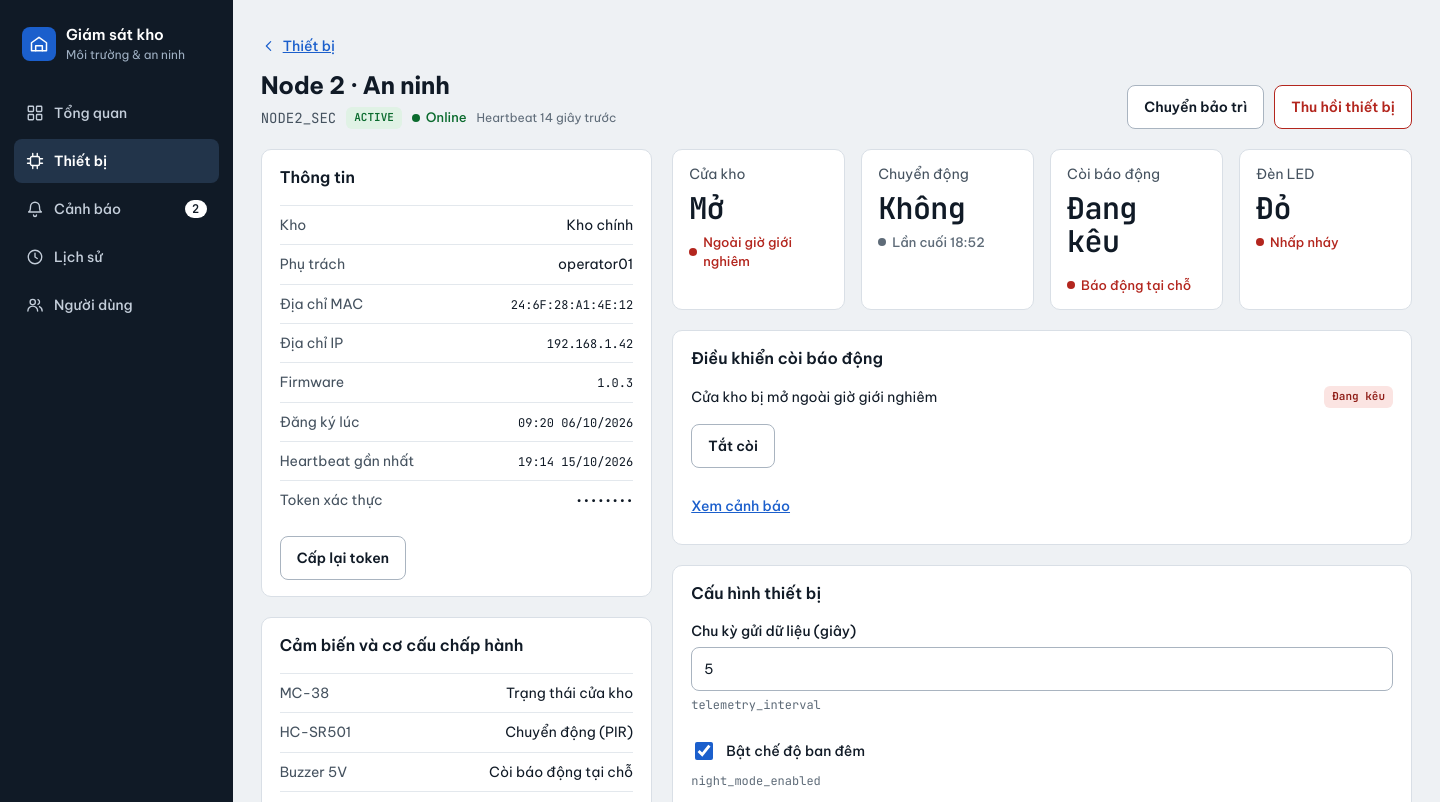
Test: AC-3 and AC-6: login and honest prototype interactions › does not claim to send a hardware command from this milestone
Click the button "Tắt còi" at {"x": 733, "y": 446}, box [691,424,775,468]
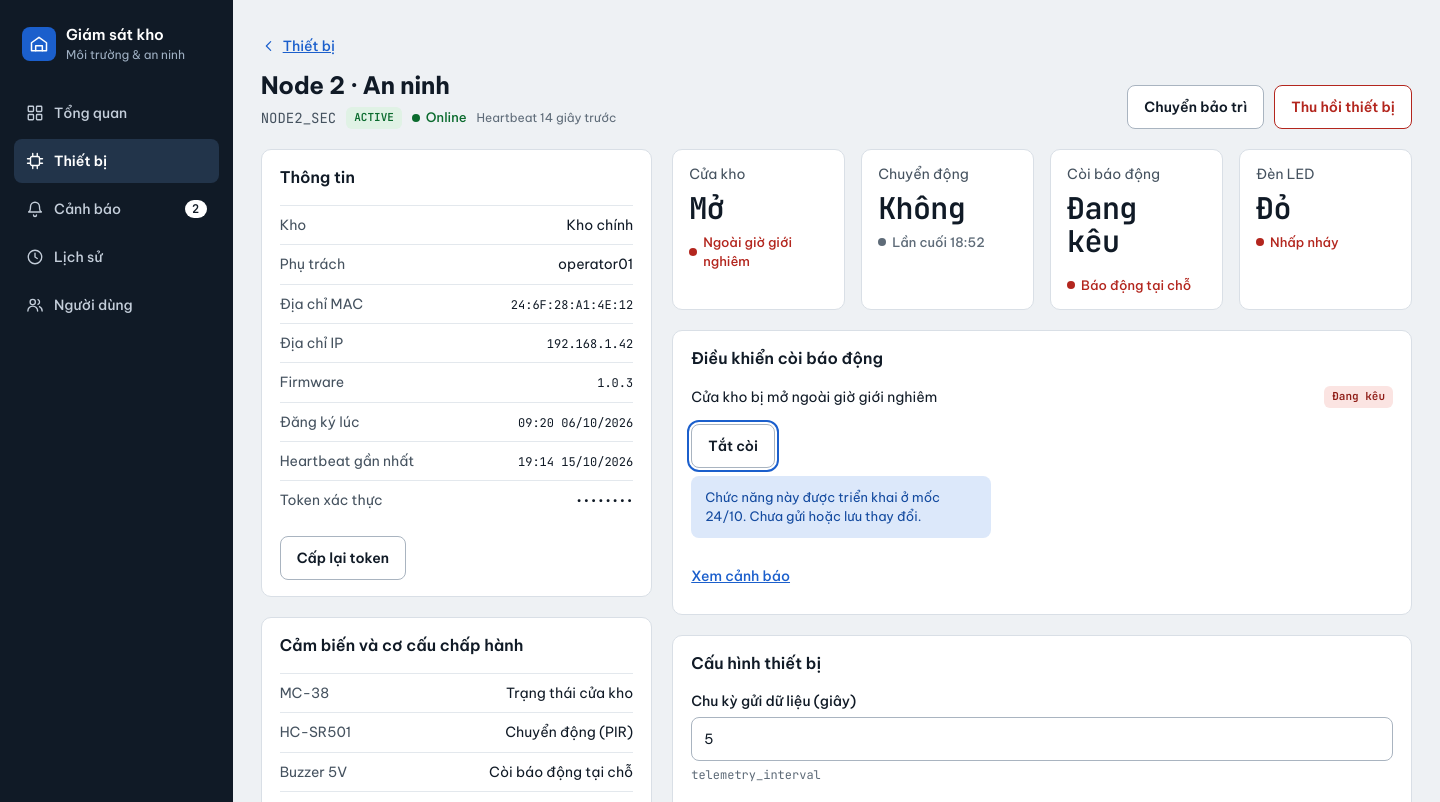
Check: the text "Đang kêu" next to "Đỏ" is shown, box [1067,188,1137,261]
Check: the message shows "Chưa gửi hoặc lưu thay đổi.", box [743,508,921,524]
